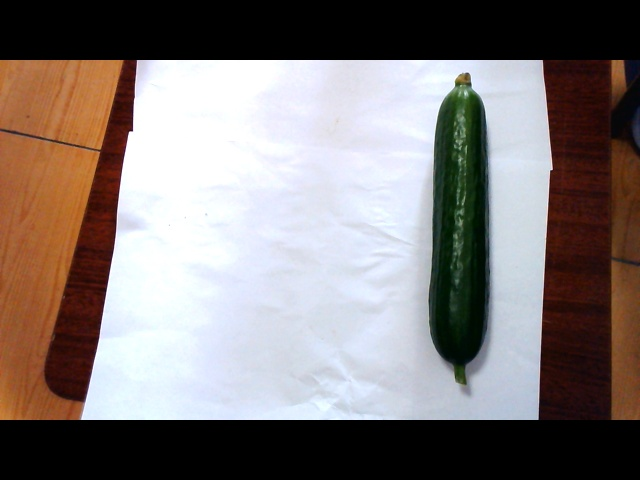cucumber: (418, 82, 505, 380)
